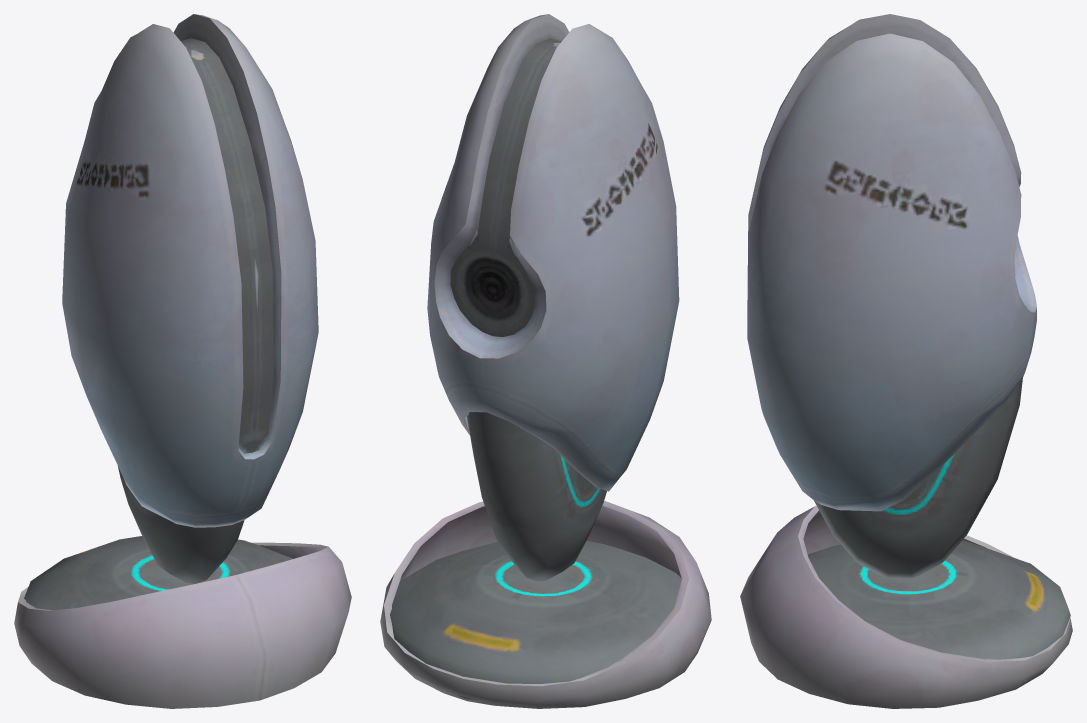
The model's file is pref_sm_beach_winter_techcamera_lv3.fbx.
3 renders of one model, left to right at view 1: azimuth 30°, elevation 25°; view 2: azimuth 150°, elevation 25°; view 3: azimuth 270°, elevation 25°, orthographic.
Visible parts, largest first — view 1: pref_sm_beach_winter_techcamera_lv3; view 2: pref_sm_beach_winter_techcamera_lv3; view 3: pref_sm_beach_winter_techcamera_lv3.
Part boxes in pixels (x1,y1,x2,y2): pref_sm_beach_winter_techcamera_lv3: (14, 14, 351, 708); pref_sm_beach_winter_techcamera_lv3: (380, 14, 711, 708); pref_sm_beach_winter_techcamera_lv3: (740, 14, 1072, 708).
Bounding box in the file's own units: 1.8 × 3.63 × 1.77.
